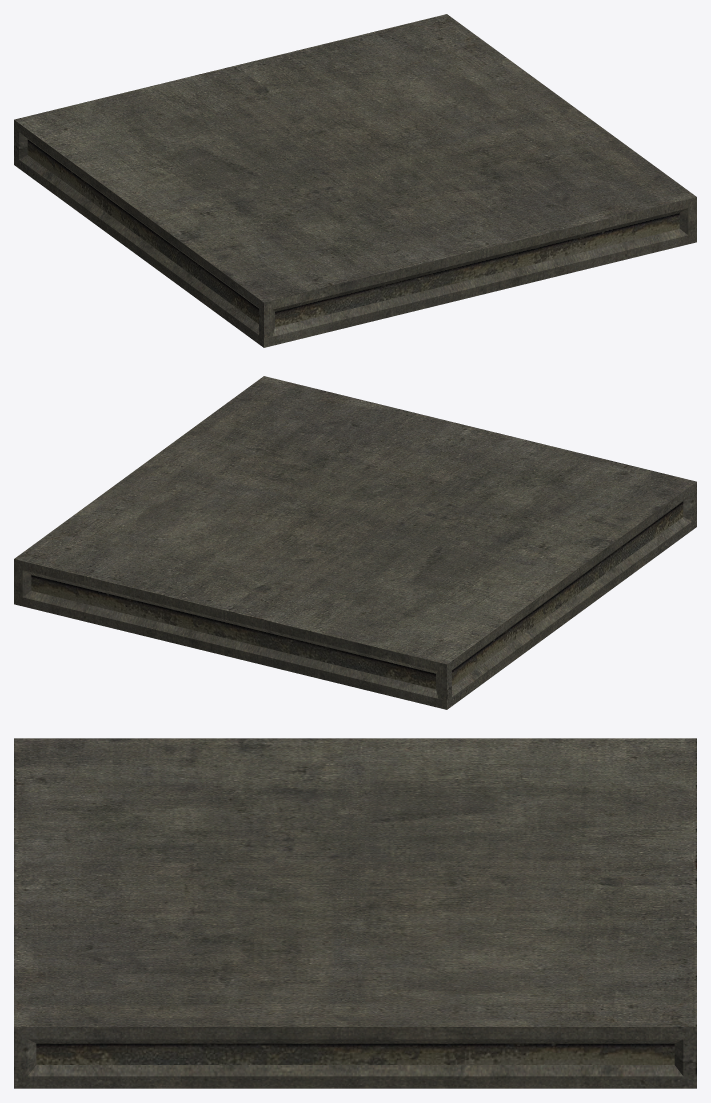
File: floor_ceiling_hr_3.obj
The picture shows the model from 3 angles, top to bottom: view 1: azimuth 30°, elevation 25°; view 2: azimuth 150°, elevation 25°; view 3: azimuth 270°, elevation 25°; orthographic projection. The views are drawn at different scales.
Visible parts, largest first — view 1: floor_ceiling_hr_3; view 2: floor_ceiling_hr_3; view 3: floor_ceiling_hr_3.
Part boxes in pixels (x1,y1,x2,y2): floor_ceiling_hr_3: (14, 14, 696, 347); floor_ceiling_hr_3: (14, 376, 696, 709); floor_ceiling_hr_3: (14, 738, 696, 1088).
Bounding box in the file's own units: 4 × 0.4 × 4.
